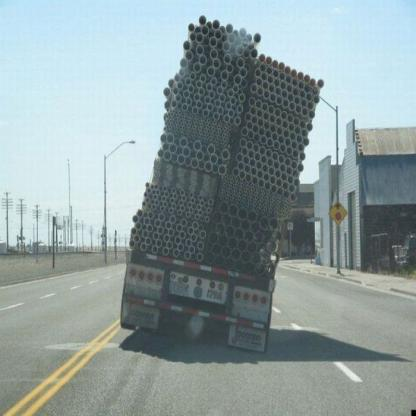overloaded-truck: (127, 7, 304, 379)
